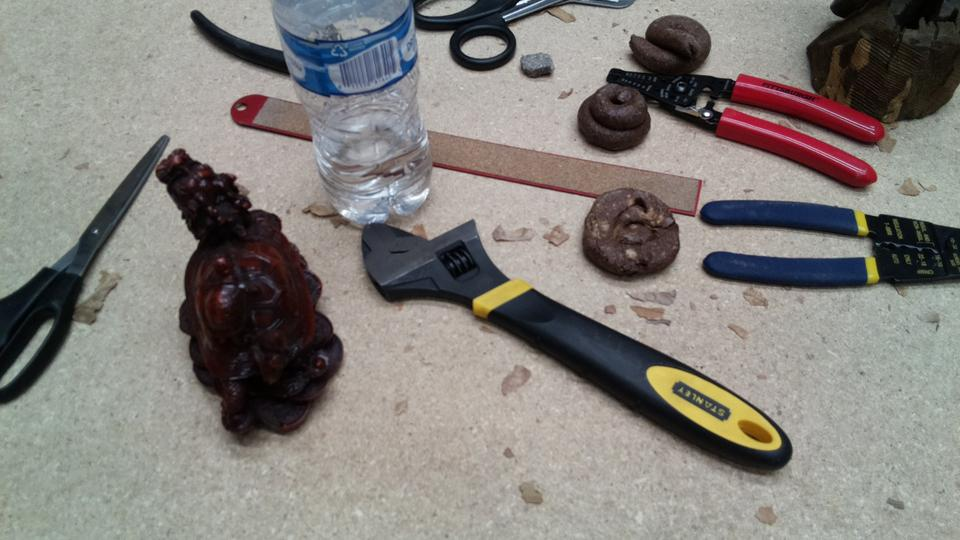poop: (578, 186, 684, 280), (574, 82, 654, 156), (627, 10, 715, 76)
